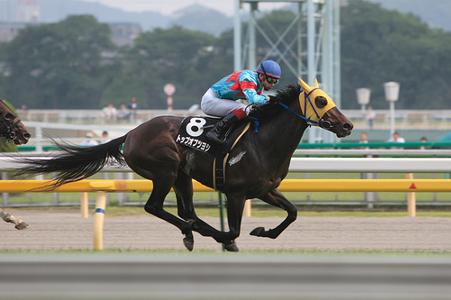person: (203, 59, 285, 146)
